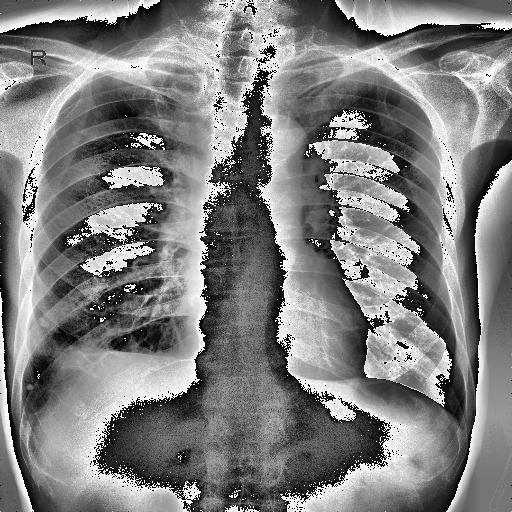0- Aortic enlargement: (238, 114, 306, 164), (252, 116, 308, 162)
10- Pleural effusion: (12, 401, 40, 432), (22, 404, 46, 434)
11- Pleural thickening: (100, 50, 209, 80), (52, 346, 172, 372), (54, 348, 106, 394), (277, 50, 360, 74), (20, 404, 44, 441), (12, 401, 40, 432), (22, 404, 46, 434)
2- Calcification: (40, 317, 50, 326)
7- Lung Opacity: (32, 327, 112, 372), (100, 50, 209, 80), (277, 50, 360, 74)
8- Nodule-Mass: (38, 317, 50, 326), (38, 318, 48, 326), (24, 382, 34, 390), (26, 384, 34, 390)
